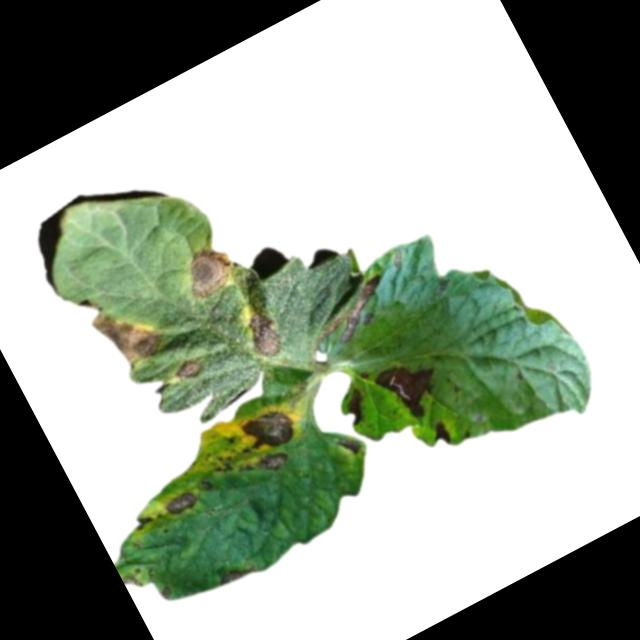Early_blight: (304, 271, 400, 354), (368, 346, 452, 431), (85, 295, 168, 379), (175, 238, 246, 306), (237, 400, 300, 459), (237, 305, 292, 367), (212, 558, 259, 592), (338, 386, 374, 427), (168, 353, 205, 388), (256, 445, 293, 480), (163, 487, 201, 519), (426, 420, 454, 449), (131, 511, 156, 535)
